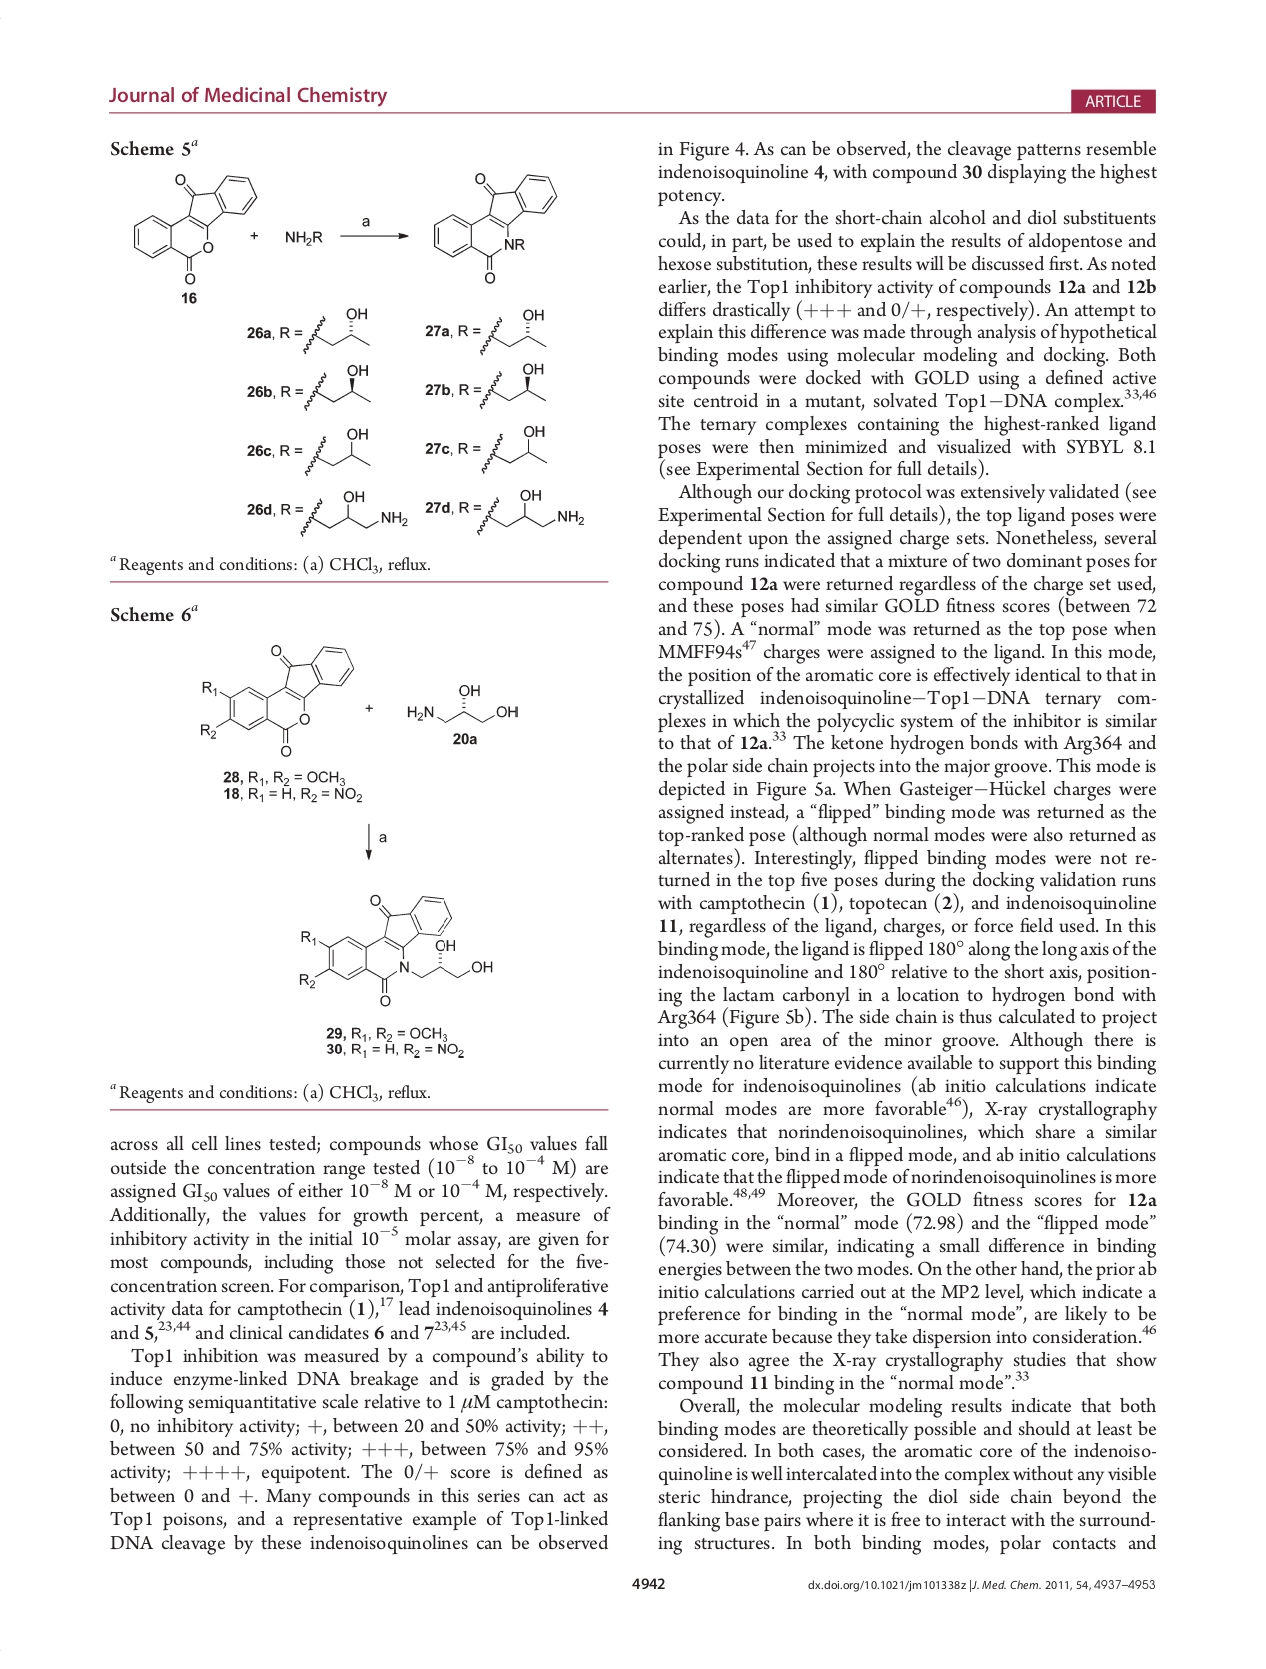exist_molecular: (295, 887, 497, 1009), (195, 644, 356, 761), (430, 166, 565, 286), (128, 168, 261, 287), (473, 487, 589, 543), (406, 677, 521, 730), (299, 487, 410, 541), (302, 354, 372, 412), (302, 299, 374, 356), (477, 305, 552, 359), (479, 422, 555, 473), (477, 358, 551, 411), (302, 427, 376, 477)
